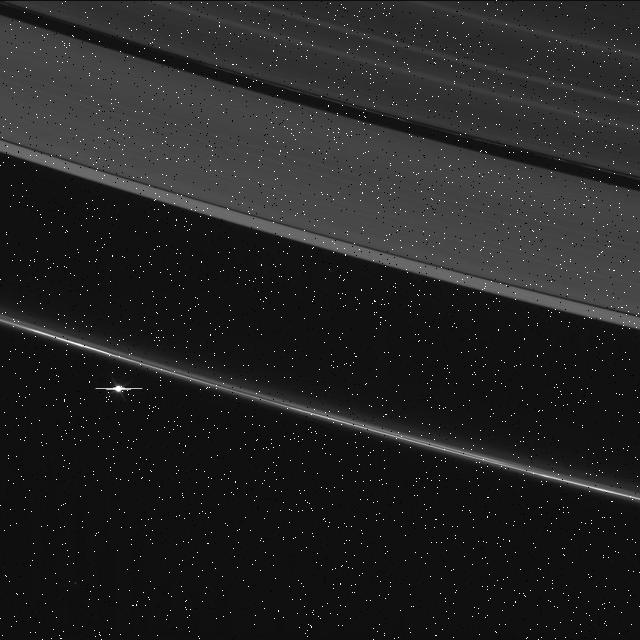Saturn: (0, 0, 640, 507)
